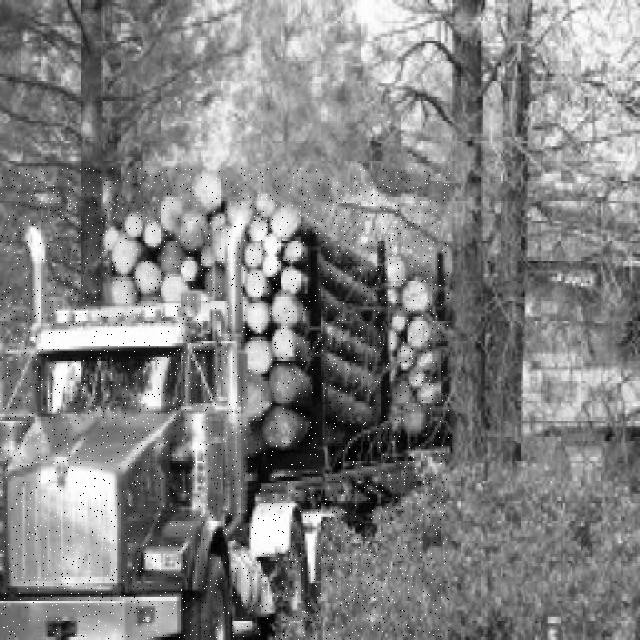Tractor Trailer: (0, 168, 450, 640)
